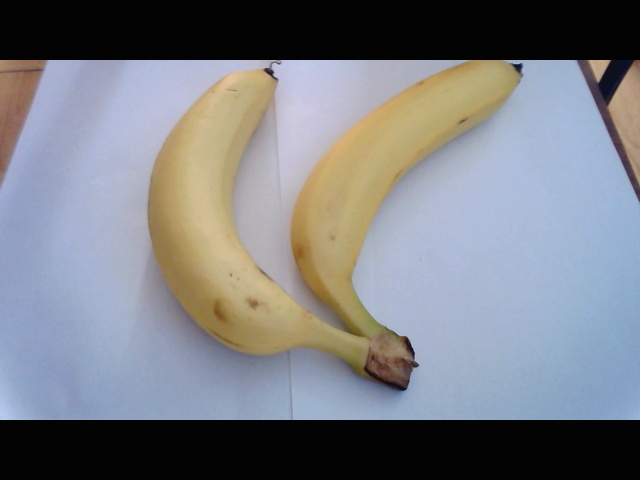banana: (311, 52, 527, 377), (149, 60, 291, 371)
